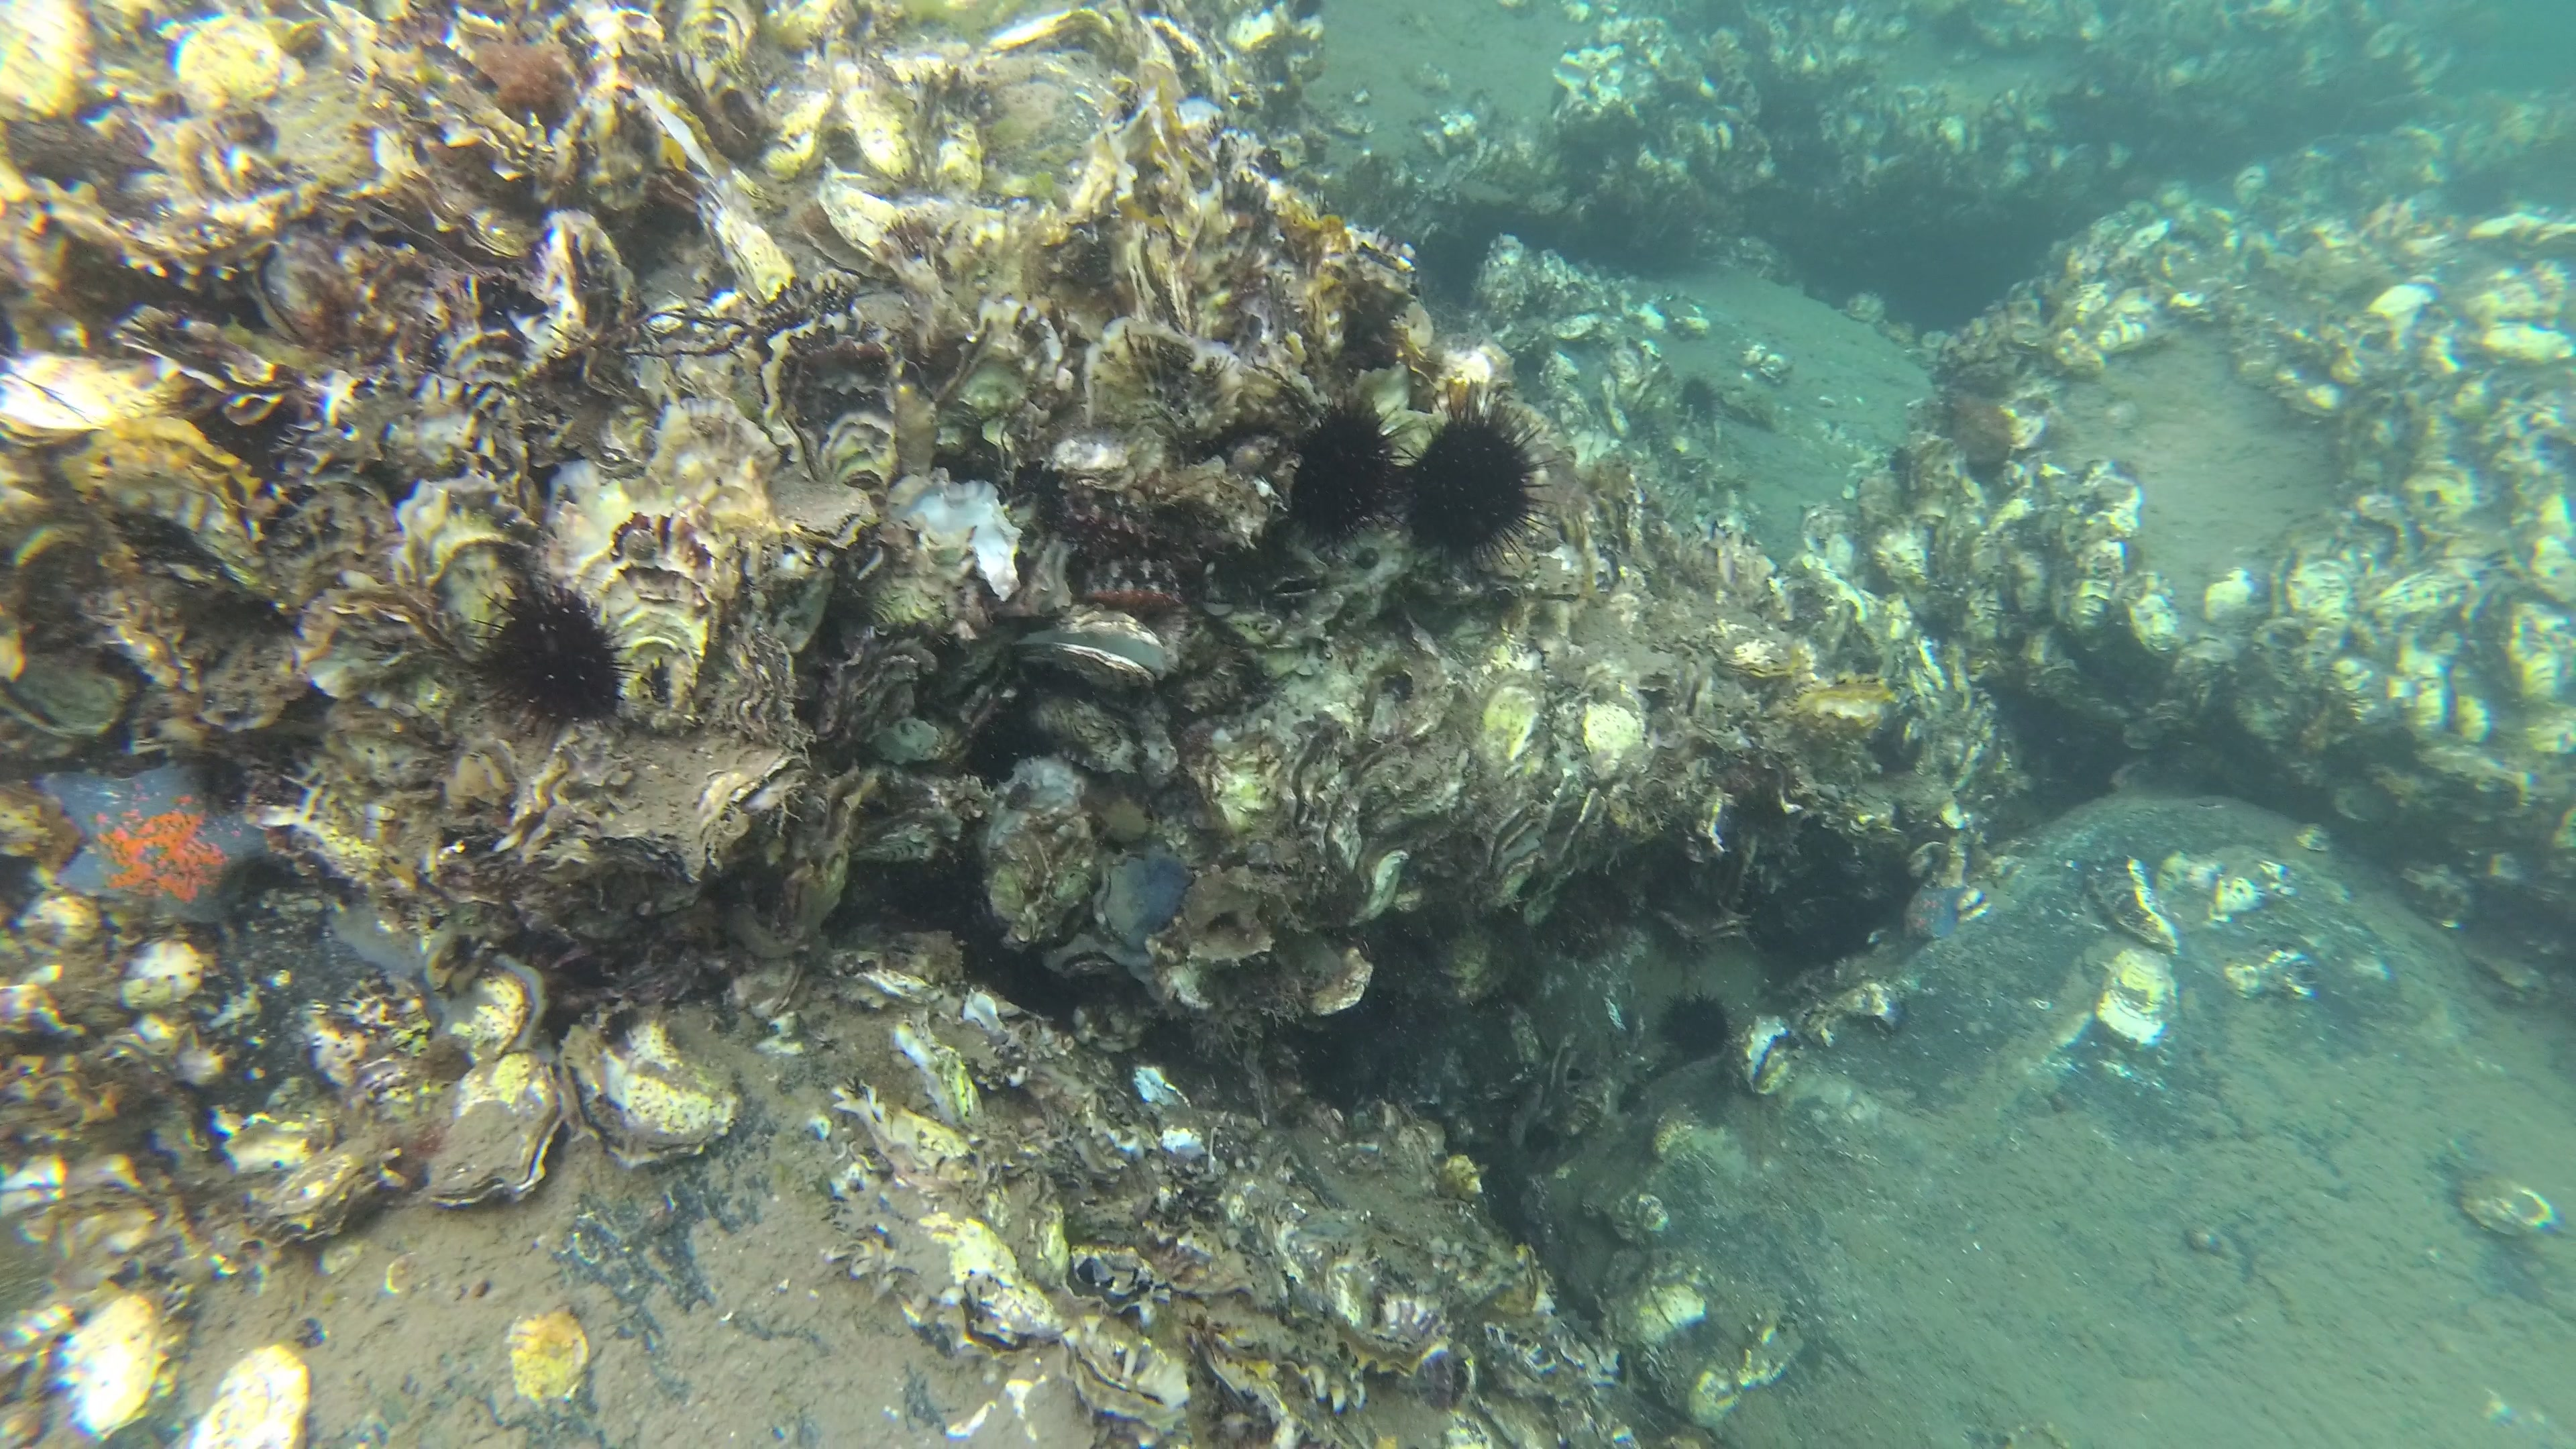echinus: (1398, 373, 1562, 582), (464, 570, 640, 745), (1286, 393, 1407, 548), (1660, 991, 1736, 1063), (1677, 375, 1723, 421)
scallop: (50, 1292, 175, 1445), (184, 1343, 317, 1449), (791, 175, 908, 285)
starfish: (37, 747, 280, 934), (1897, 878, 1971, 945)
